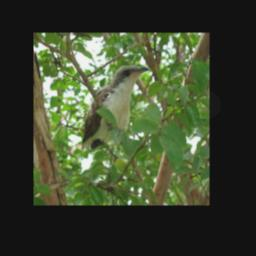Cuckoo: (80, 63, 147, 153)
